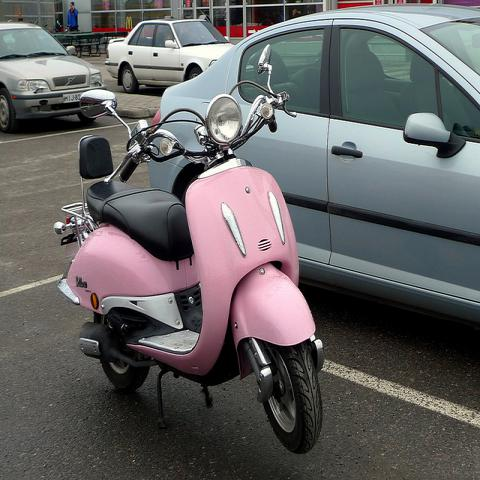car: (147, 3, 479, 327), (2, 24, 104, 137), (104, 18, 235, 94)
motorcycle: (54, 39, 326, 455)
